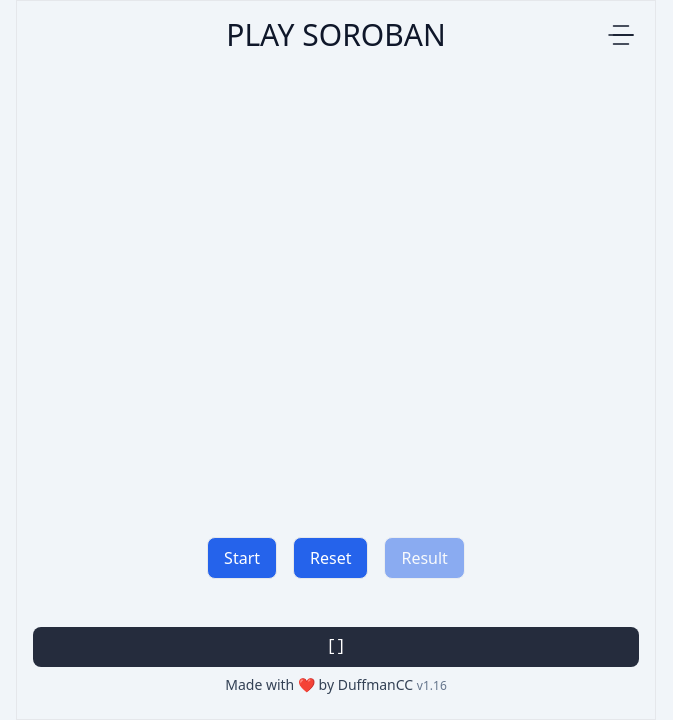
Test: First number appears after countdown
Click the button "Start" at (242, 558), box left=207, top=537, right=277, bottom=579
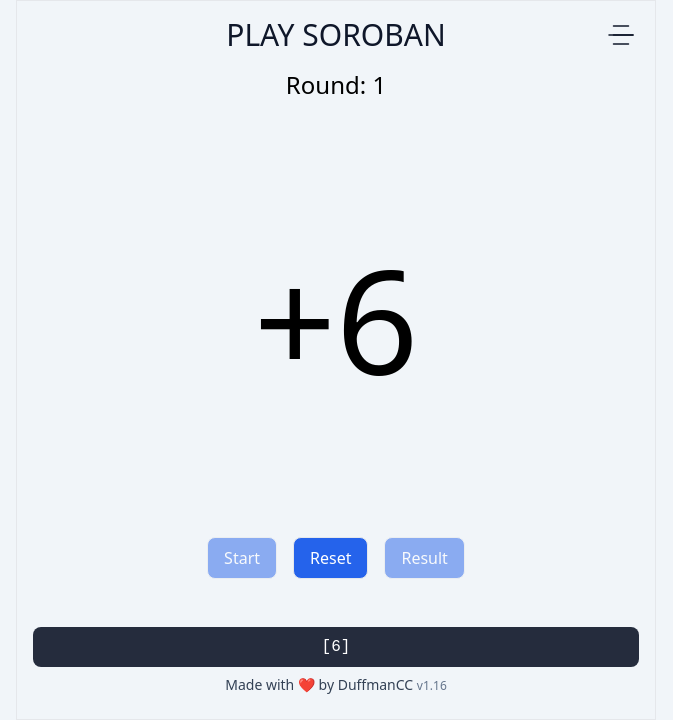
Result: the text with test id "number" reads "+6" at left=254, top=221, right=418, bottom=417
